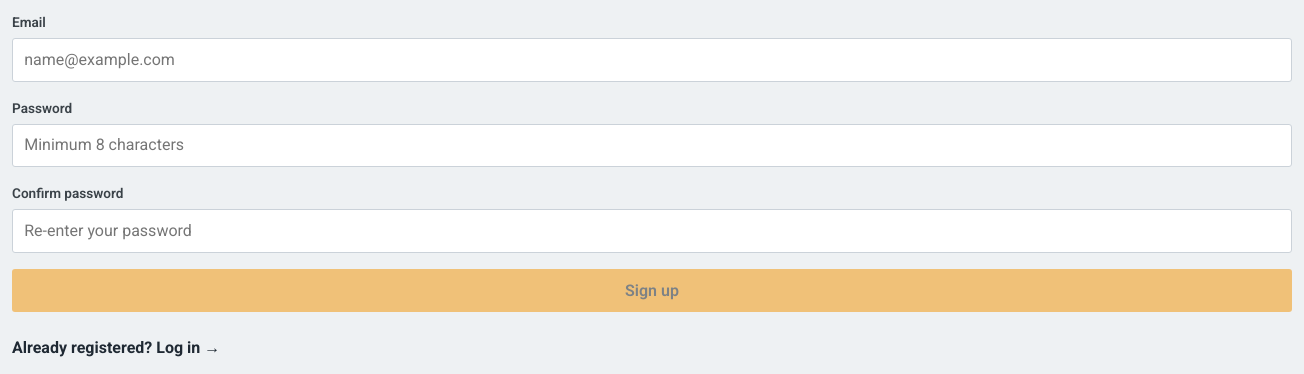
Scenario: SignUpForm › submits valid input and shows the verify-your-email message
Type "ana@example.com" into the field labelled "Email" at (652, 60), box top-left (12, 38), bottom-right (1292, 82)
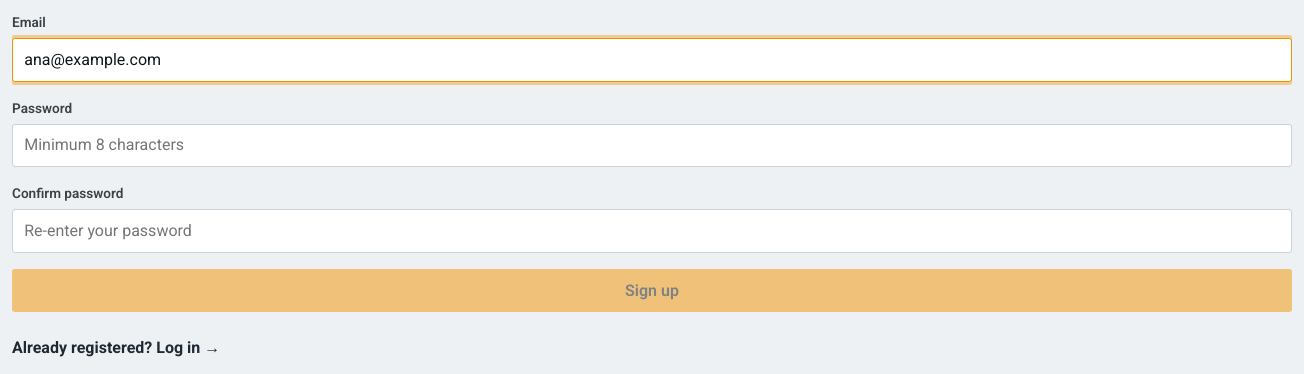
Type "password123" into the password field labelled "Password" at (652, 145), box top-left (12, 124), bottom-right (1292, 167)
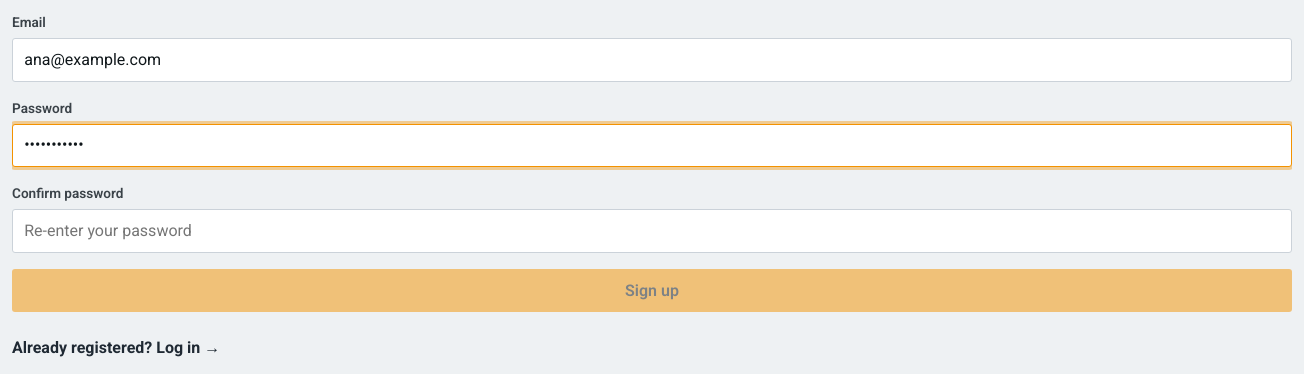
Type "password123" into the password field labelled "Confirm password" at (652, 231), box top-left (12, 209), bottom-right (1292, 253)
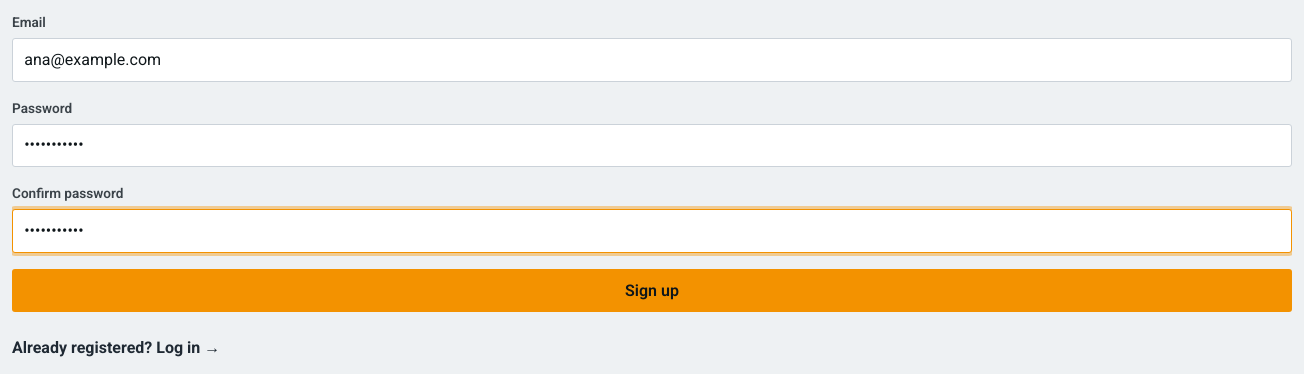
Click the button "Sign up" at (652, 290), box top-left (12, 269), bottom-right (1292, 312)
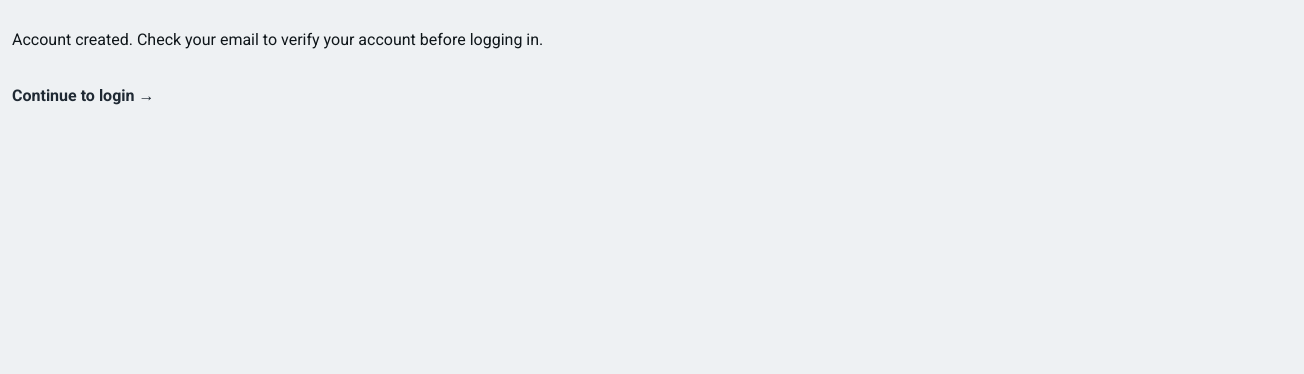
Expected: the link "Continue to login →" is shown, top-left (12, 86), bottom-right (154, 105)
